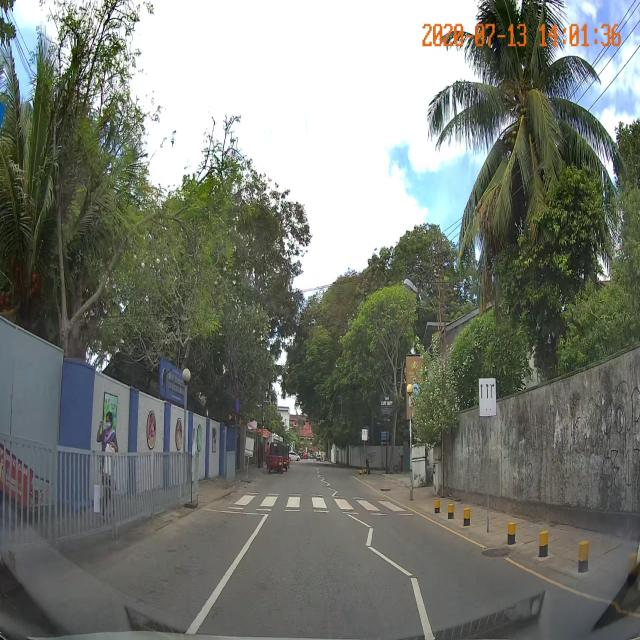Crosswalk: (226, 492, 416, 515)
